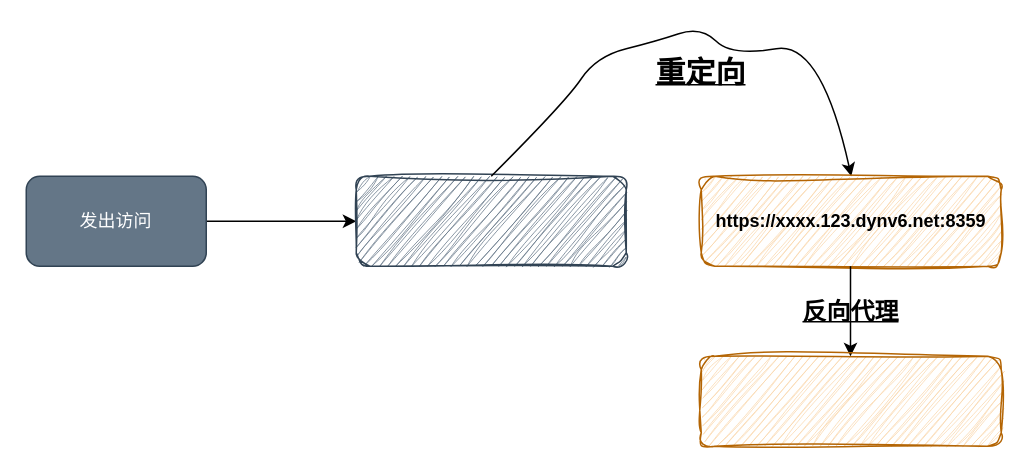
Some shapes in this 1028 by 473 pixel diagram are drawn without their labels. Each missing label, with the centre of its shape:
http://127.0.0.1:2440: [850,400]
https://xxxx.123.us.kg:33333: [490,220]
